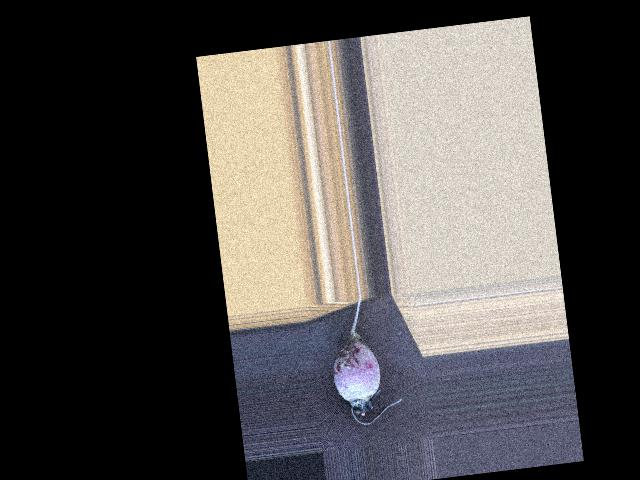beet: (323, 294, 404, 428)
